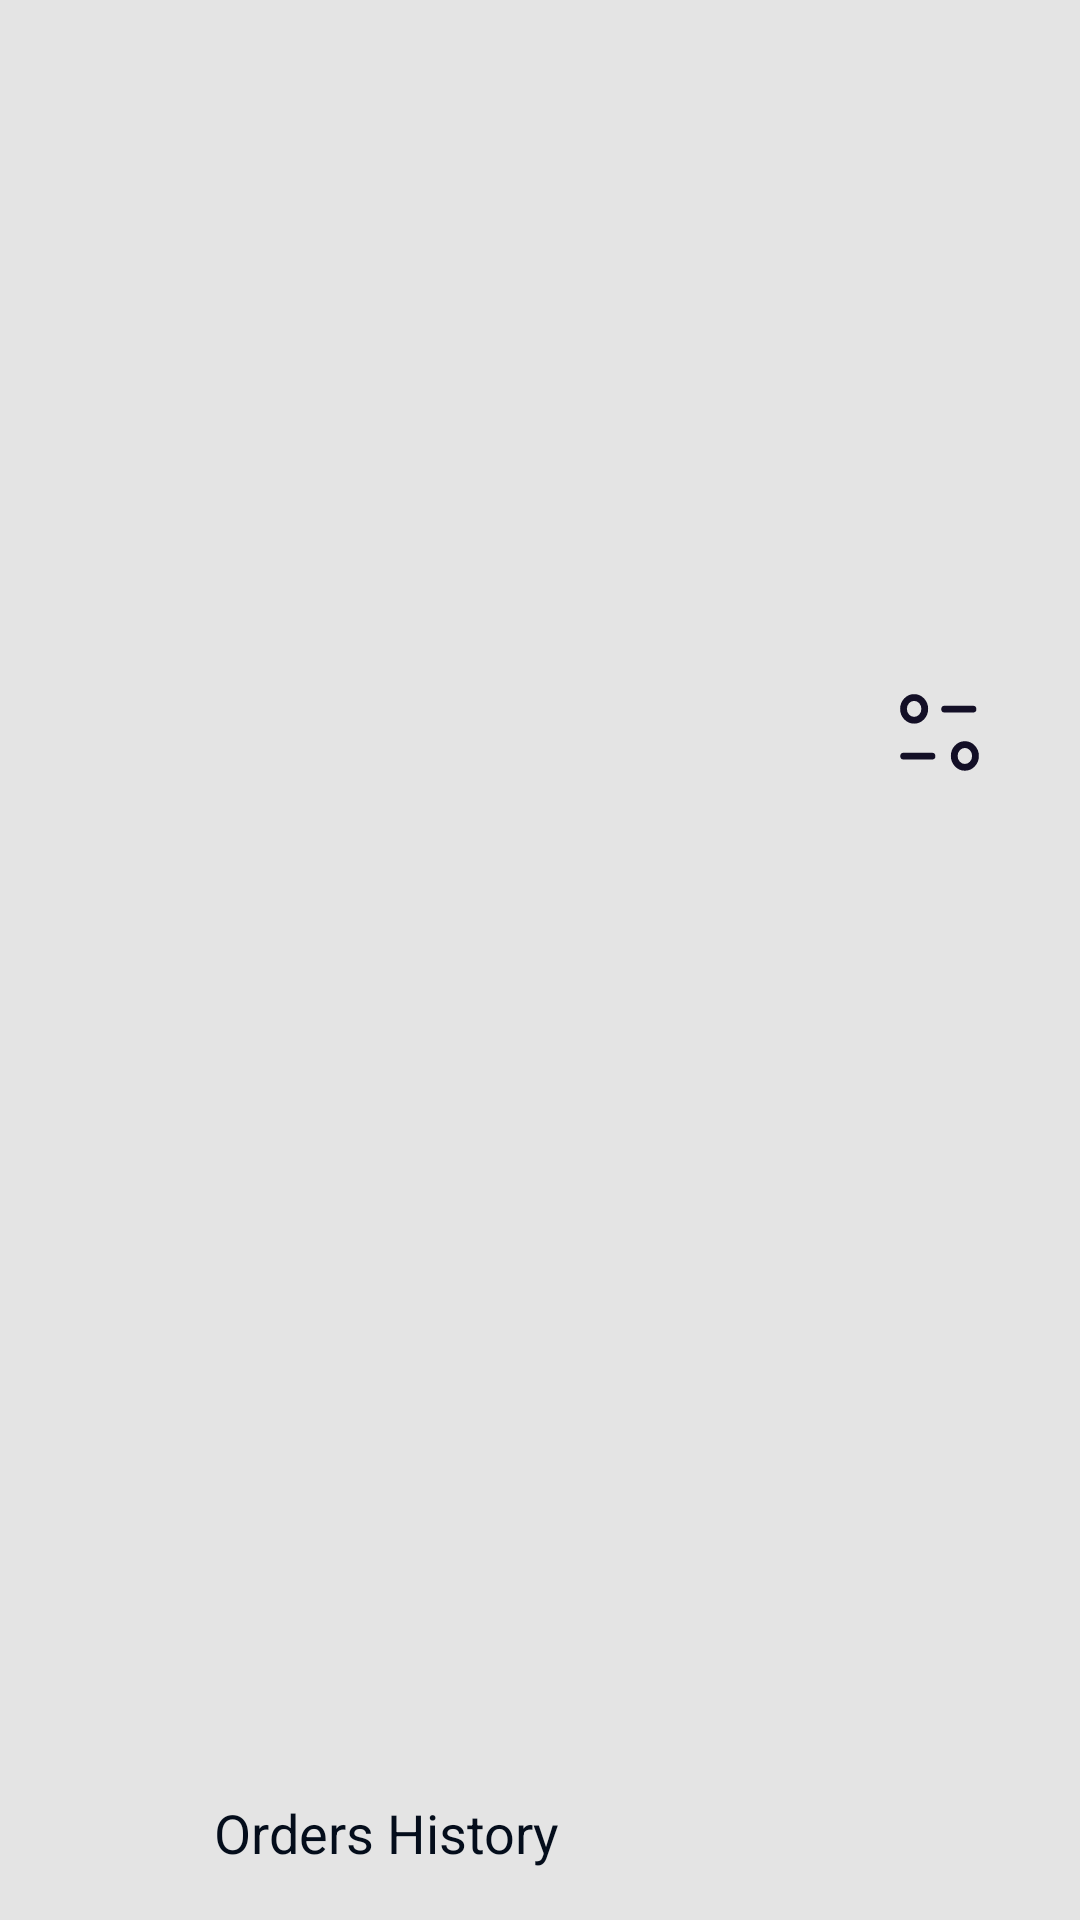

Named icons in this screenshot (1080×1920) and their centers, point (x, y):
filter: point (939, 732)
